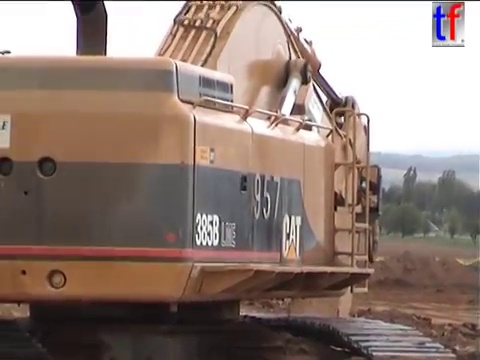excavator: (1, 1, 460, 360)
